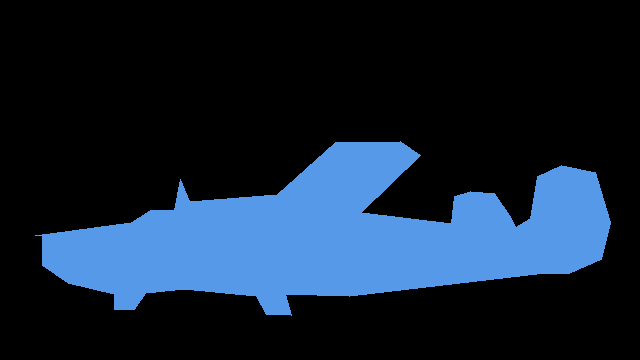Airplane: (35, 141, 610, 316)
